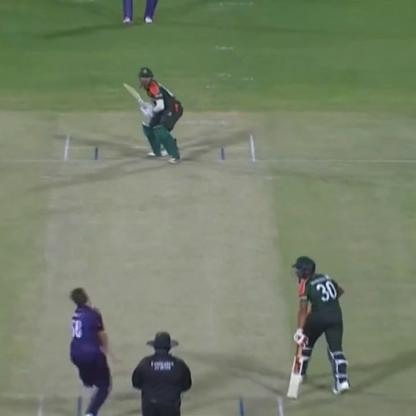bat: (283, 337, 308, 400), (118, 76, 152, 115)
pitch: (26, 110, 294, 416)
